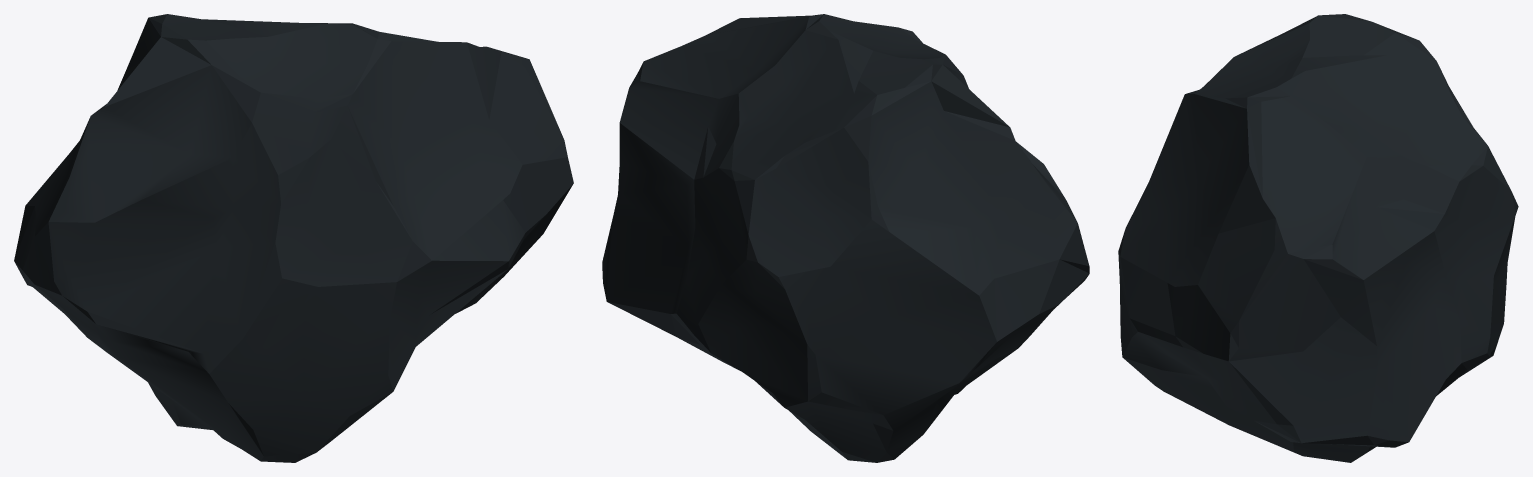
Rendered from Asteroid_s_40.FBX.
3 renders of one model, left to right at view 1: azimuth 30°, elevation 25°; view 2: azimuth 150°, elevation 25°; view 3: azimuth 270°, elevation 25°, orthographic. The views are drawn at different scales.
Visible parts, largest first — view 1: Asteroid_s_40; view 2: Asteroid_s_40; view 3: Asteroid_s_40.
Boxes of the visible parts, box(x1,y1,x2,y2) form: Asteroid_s_40: box(14, 14, 573, 462); Asteroid_s_40: box(602, 14, 1089, 462); Asteroid_s_40: box(1118, 14, 1518, 462).
Size of the model in its own units: 178 by 146 by 130.
